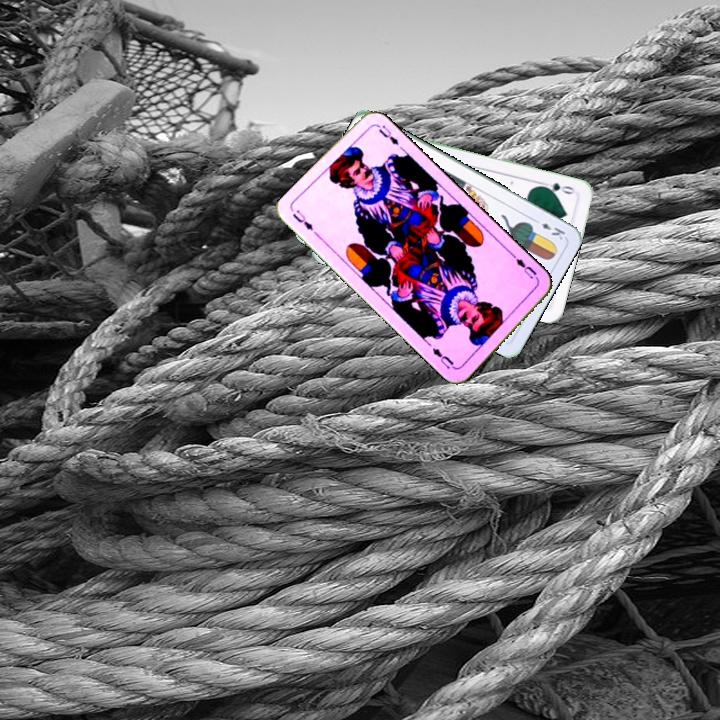EK: (529, 215, 568, 243)
EU: (509, 251, 539, 281), (288, 206, 316, 233)
GO: (538, 178, 578, 198)
